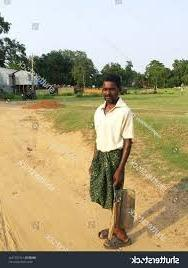Human: (86, 79, 132, 251)
